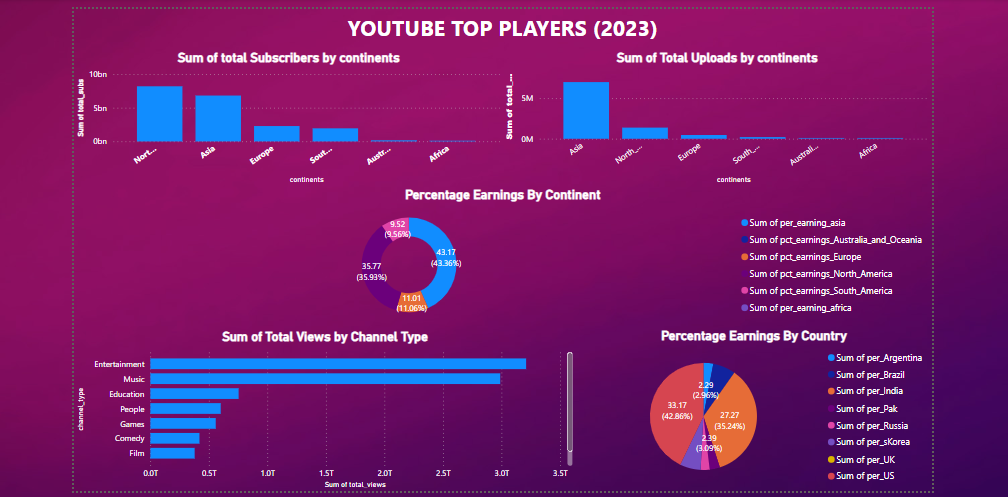

The page's visual inventory and layout, read from the dashboard file:
{"tool":"powerbi","page":{"name":"Page 1","canvas":[1280,720],"ordinal":0},"visuals":[{"type":"textbox","box":[0,0,1280.2,61.9],"z":0},{"type":"donutChart","title":"Percentage Earnings By Continent","fields":{"Y":["Sum(Continent pct.per_earning_asia)","Sum(Continent pct.pct_earnings_Australia_and_Oceania)","Sum(Continent pct.pct_earnings_Europe)","Sum(Continent pct.pct_earnings_North_America)","Sum(Continent pct.pct_earnings_South_America)","Sum(Continent pct.per_earning_africa)"]},"box":[0,266.4,1280.2,210.2],"z":1000},{"type":"columnChart","title":"Sum of Total Uploads by continents","fields":{"Category":["ContinentCount.continents"],"Y":["Sum(ContinentCount.total_uploads)"]},"box":[640.8,61.9,639.4,204.5],"z":2000},{"type":"columnChart","title":"Sum of total Subscribers  by continents","fields":{"Category":["ContinentCount.continents"],"Y":["Sum(ContinentCount.total_subs)"]},"box":[0,61.9,640.8,204.5],"z":3000},{"type":"clusteredBarChart","title":"Sum of Total Views by Channel Type","fields":{"Category":["Channel Type count.channel_type"],"Y":["Sum(Channel Type count.total_views)"]},"box":[0,477.1,749.5,242.1],"z":4000},{"type":"pieChart","title":"Percentage Earnings By Country","fields":{"Y":["Sum(Country Pct.per_Argentina)","Sum(Country Pct.per_Brazil)","Sum(Country Pct.per_India)","Sum(Country Pct.per_Pak)","Sum(Country Pct.per_Russia)","Sum(Country Pct.per_sKorea)","Sum(Country Pct.per_UK)","Sum(Country Pct.per_US)"]},"box":[748.8,476.6,531.4,241.9],"z":5000}]}

Visuals, with their boxes in screenshot pixels (x1, y1, x2, y2):
textbox: l=76, t=18, r=915, b=59
"Percentage Earnings By Continent" donutChart: l=76, t=193, r=915, b=331
"Sum of Total Uploads by continents" columnChart: l=496, t=59, r=915, b=193
"Sum of total Subscribers  by continents" columnChart: l=76, t=59, r=496, b=193
"Sum of Total Views by Channel Type" clusteredBarChart: l=76, t=331, r=567, b=490
"Percentage Earnings By Country" pieChart: l=567, t=331, r=915, b=489
